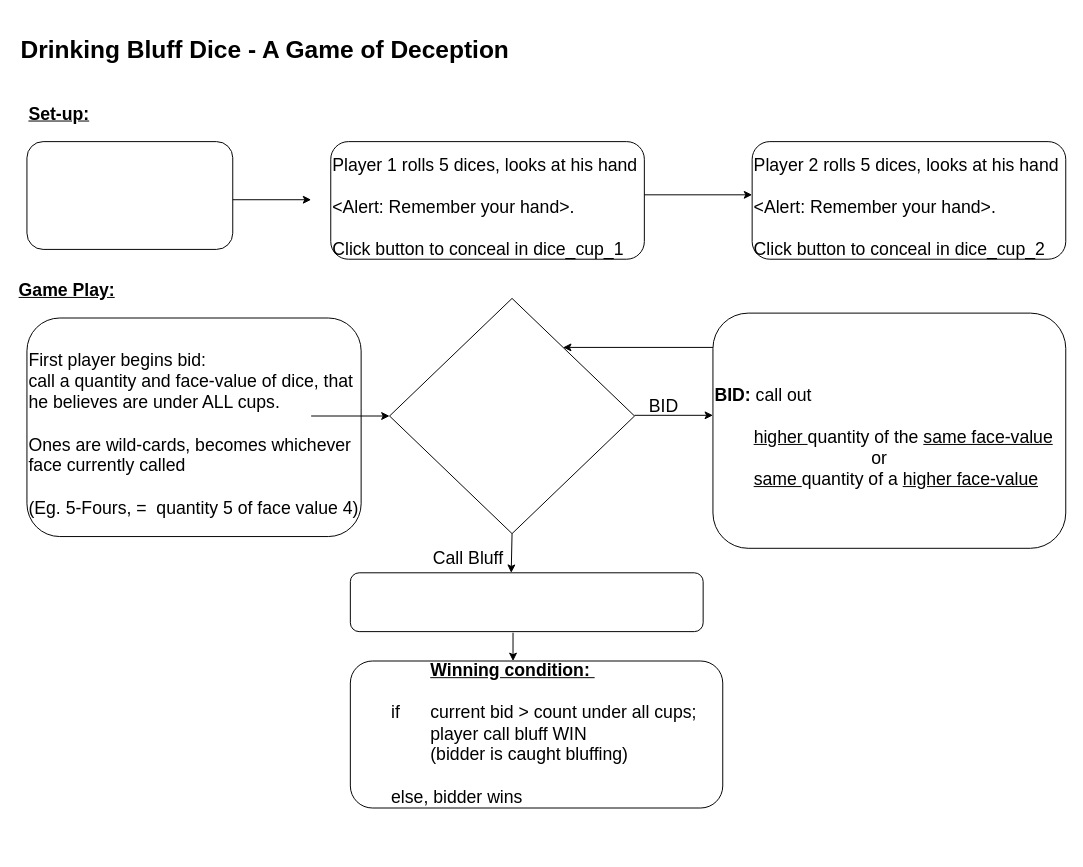
The diagram is 1083 pixels wide and 867 high, and some of its shapes have lost their labels. The centre of each missing label's shape, as x and y in pixels:
All dices are revealed: point 526,602
Both player roll 1 dice , higher face-value = first player: point 129,195
Next player has two choices: (i) bid; or (ii) call bluff: point 512,415
